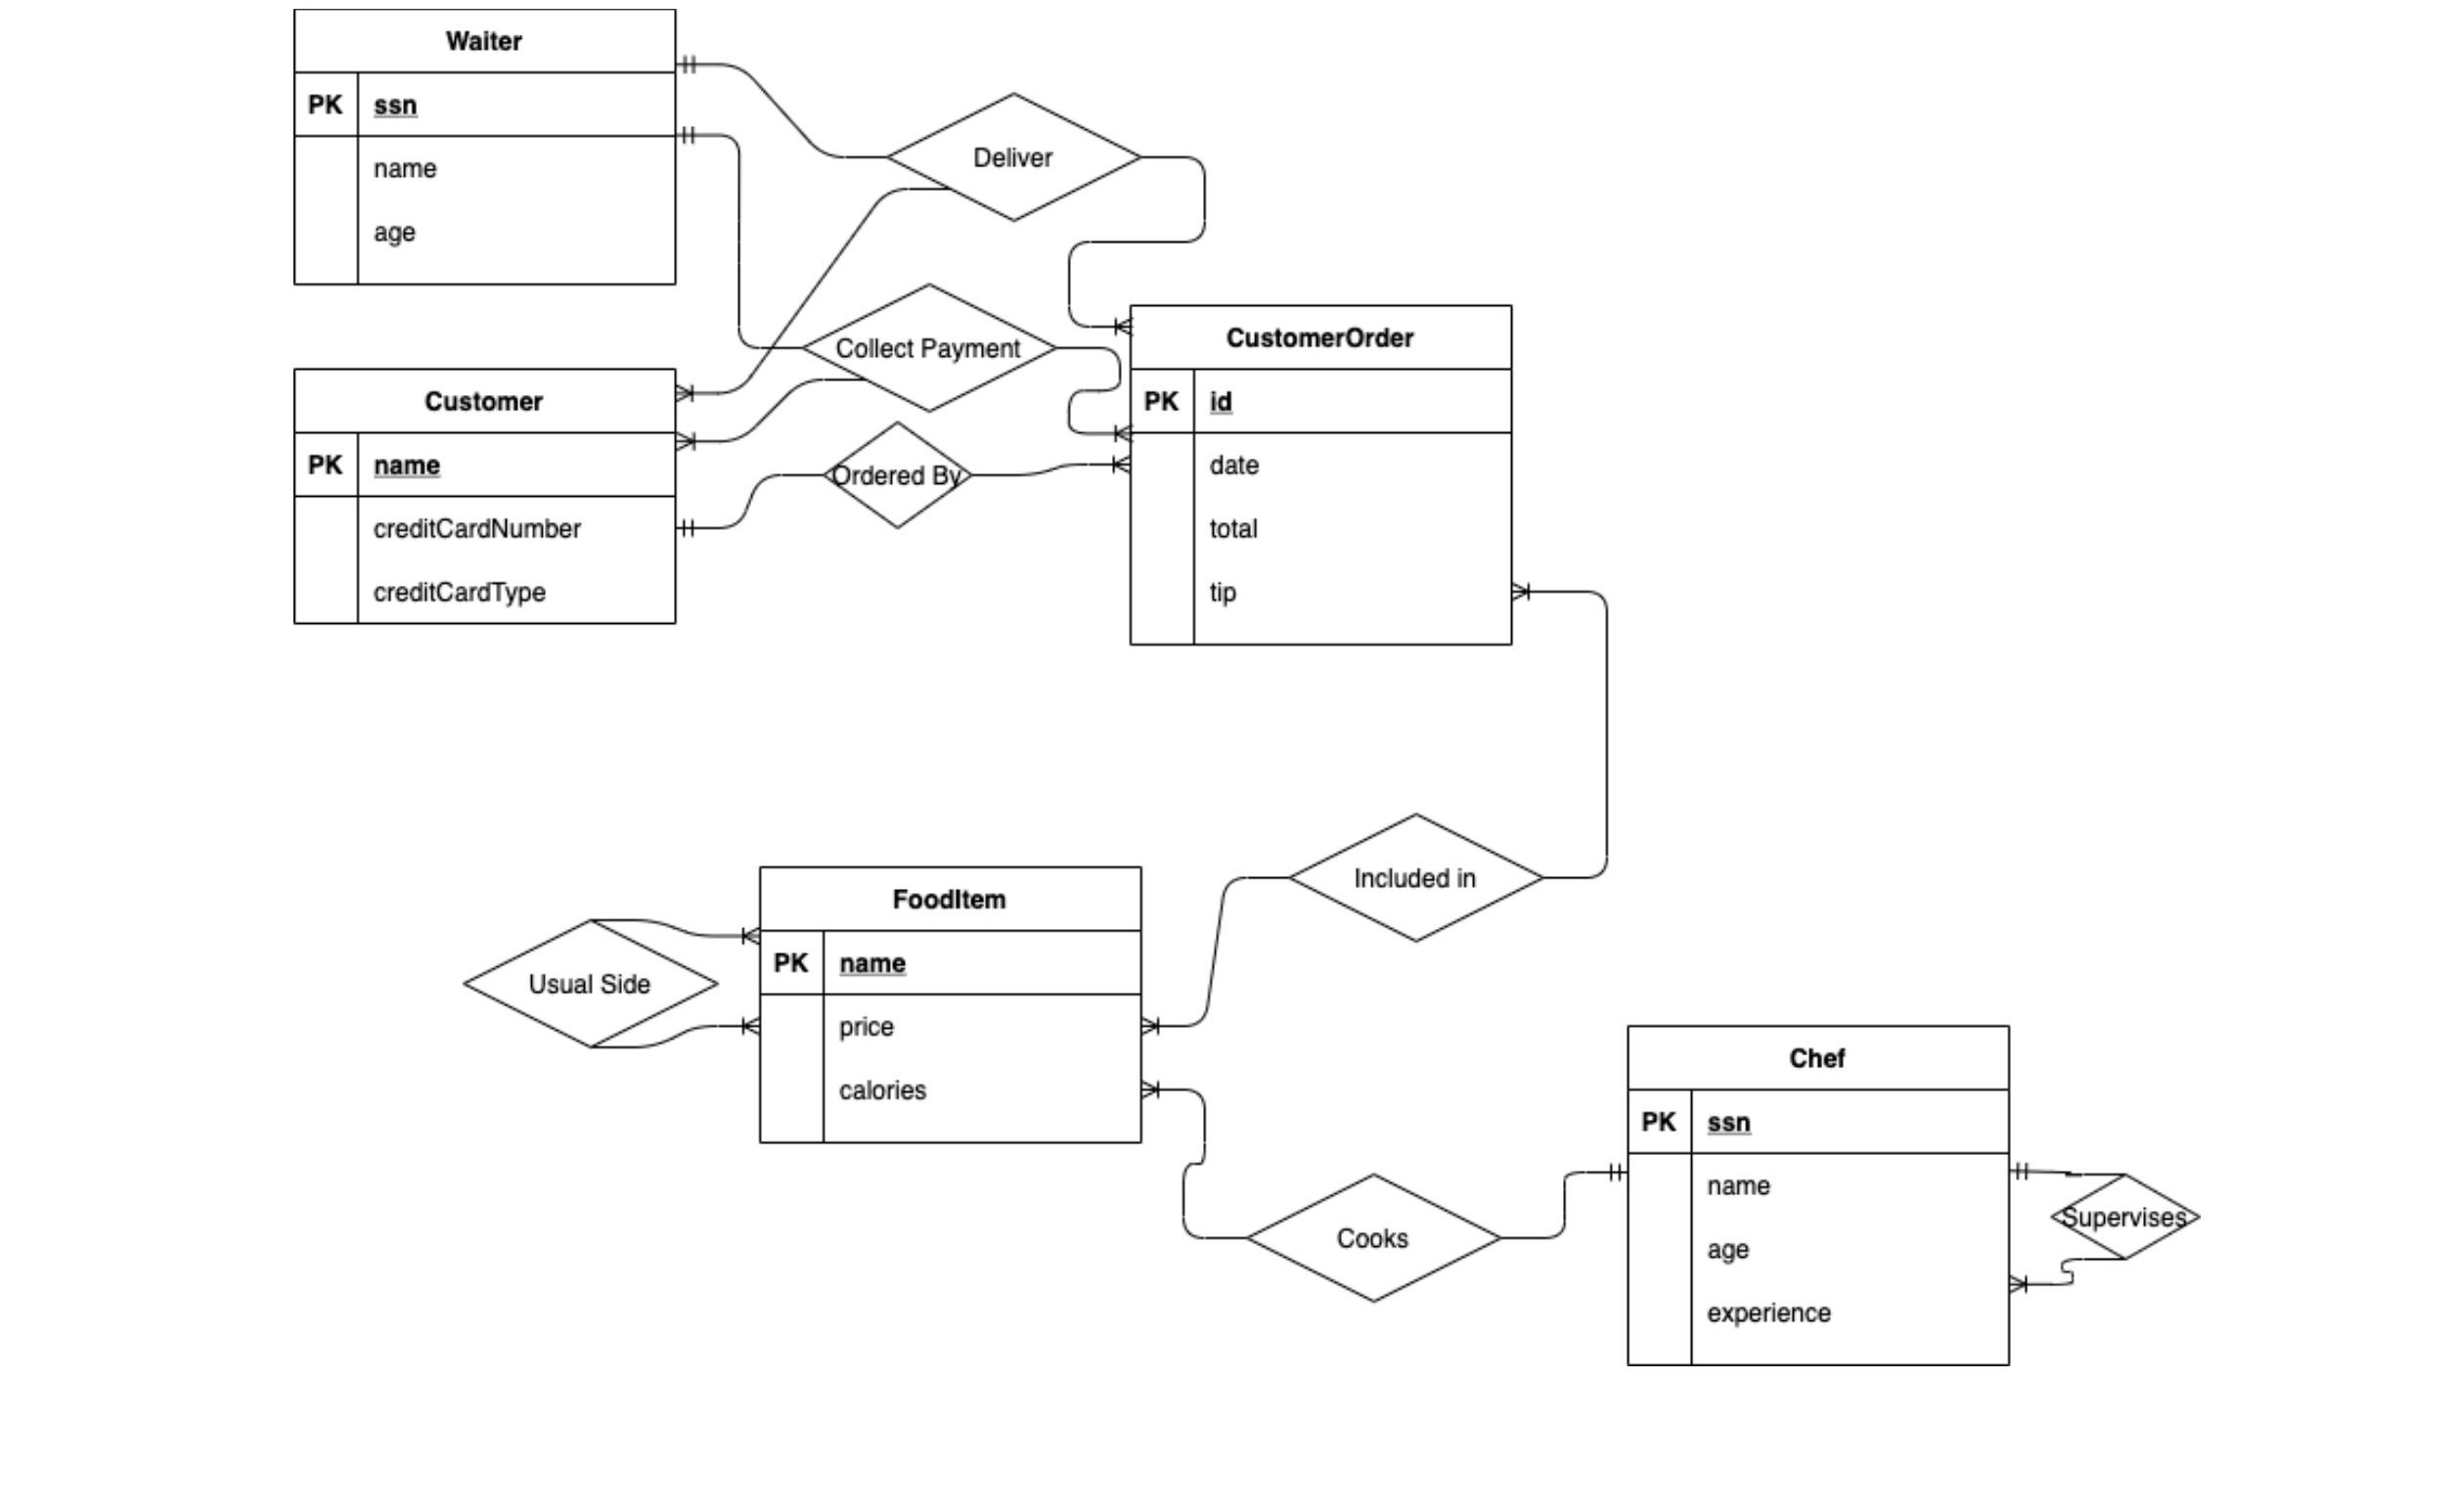Entity: (1624, 1023, 2014, 1370), (1128, 303, 1516, 649), (758, 863, 1146, 1147), (291, 7, 679, 288), (291, 367, 679, 626)
Relationship: (1286, 812, 1542, 942), (461, 919, 719, 1047), (1246, 1173, 1500, 1303), (888, 93, 1140, 223), (802, 284, 1056, 412), (823, 421, 974, 530), (2049, 1173, 2203, 1259)
